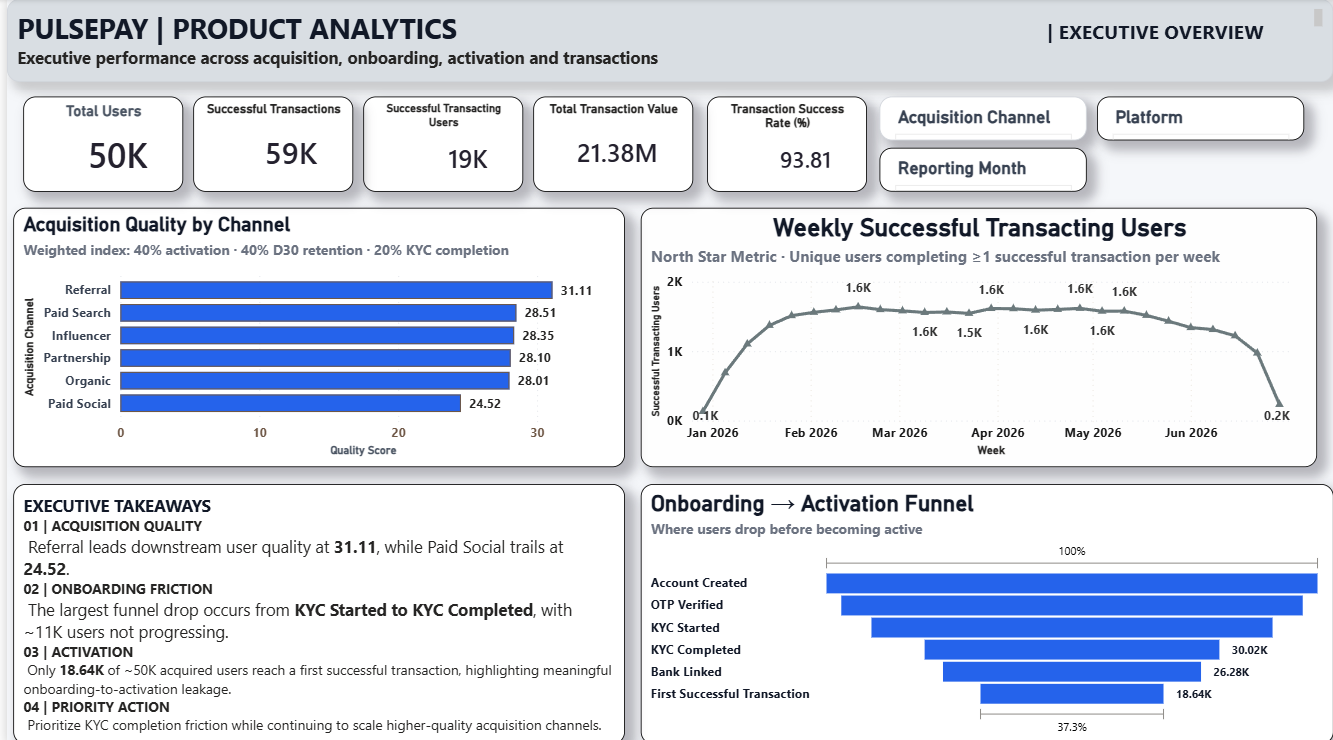

The page's visual inventory and layout, read from the dashboard file:
{"tool":"powerbi","page":{"name":"01-PulsePay-Executive-Overview.pbix","canvas":[1280,720],"ordinal":0},"visuals":[{"type":"textbox","box":[0,0,1280,80],"z":0},{"type":"lineChart","title":"Weekly Successful Transacting Users","fields":{"Y":["Sum(pulsepay_analytics vw_weekly_north_star.weekly_successful_transacting_users)"],"Category":["pulsepay_analytics vw_weekly_north_star.week_start"]},"box":[611.4,201.4,652.9,250],"z":1000},{"type":"funnel","title":"Onboarding → Activation Funnel","fields":{"Category":["pulsepay_analytics vw_onboarding_funnel.funnel_step"],"Y":["Sum(pulsepay_analytics vw_onboarding_funnel.users)"]},"box":[611.4,468.6,668.6,251.4],"z":2000},{"type":"clusteredBarChart","title":"Acquisition Quality by Channel","fields":{"Category":["pulsepay_analytics vw_acquisition_quality.acquisition_channel"],"Y":["Sum(pulsepay_analytics vw_acquisition_quality.acquisition_quality_score)"]},"box":[5.7,201.4,590,250],"z":3000},{"type":"cardVisual","title":"Transaction Success Rate (%)","fields":{"Data":["Sum(pulsepay_analytics vw_executive_kpis.transaction_success_rate_pct)"]},"box":[675.7,94.3,154,92],"z":4000},{"type":"cardVisual","title":"Successful Transacting Users","fields":{"Data":["Sum(pulsepay_analytics vw_executive_kpis.successful_transacting_users)"]},"box":[344,94,154,92],"z":5000},{"type":"cardVisual","title":"Total Transaction Value","fields":{"Data":["Sum(pulsepay_analytics vw_executive_kpis.total_successful_transaction_value)"]},"box":[508,94,154,92],"z":6000},{"type":"cardVisual","title":"Total Users","fields":{"Data":["Sum(pulsepay_analytics vw_executive_kpis.total_users)"]},"box":[15.7,94.3,154,92],"z":7000},{"type":"cardVisual","title":"Successful Transactions","fields":{"Data":["Sum(pulsepay_analytics vw_executive_kpis.successful_transactions)"]},"box":[180,94,154,92],"z":8000},{"type":"slicer","fields":{"Values":["pulsepay_analytics vw_acquisition_quality.acquisition_channel"]},"box":[842,94,200,42],"z":14000},{"type":"slicer","title":"Reporting Month","fields":{"Values":["pulsepay_analytics vw_weekly_north_star.week_start.Variation.Date Hierarchy.Year","pulsepay_analytics vw_weekly_north_star.week_start.Variation.Date Hierarchy.Quarter","pulsepay_analytics vw_weekly_north_star.week_start.Variation.Date Hierarchy.Month","pulsepay_analytics vw_weekly_north_star.week_start.Variation.Date Hierarchy.Day"]},"box":[842,144,200,42],"z":15000},{"type":"slicer","title":"Platform ","fields":{"Values":["pulsepay_analytics vw_kyc_device_version.device_type"]},"box":[1052,94,200,42],"z":16000},{"type":"textbox","box":[5.7,468.6,590,251.4],"z":17000}]}

Visuals, with their boxes in screenshot pixels (x1, y1, x2, y2), scaled from the page's 1280x720 canvas onto the 1333x740 screenshot:
textbox: detection(0, 0, 1332, 82)
"Weekly Successful Transacting Users" lineChart: detection(637, 207, 1317, 464)
"Onboarding → Activation Funnel" funnel: detection(637, 482, 1332, 739)
"Acquisition Quality by Channel" clusteredBarChart: detection(6, 207, 620, 464)
"Transaction Success Rate (%)" cardVisual: detection(704, 97, 864, 191)
"Successful Transacting Users" cardVisual: detection(358, 97, 519, 191)
"Total Transaction Value" cardVisual: detection(529, 97, 689, 191)
"Total Users" cardVisual: detection(16, 97, 177, 191)
"Successful Transactions" cardVisual: detection(187, 97, 348, 191)
slicer - pulsepay_analytics vw_acquisition_quality.acquisition_channel: detection(877, 97, 1085, 140)
"Reporting Month" slicer: detection(877, 148, 1085, 191)
"Platform " slicer: detection(1096, 97, 1304, 140)
textbox: detection(6, 482, 620, 739)
